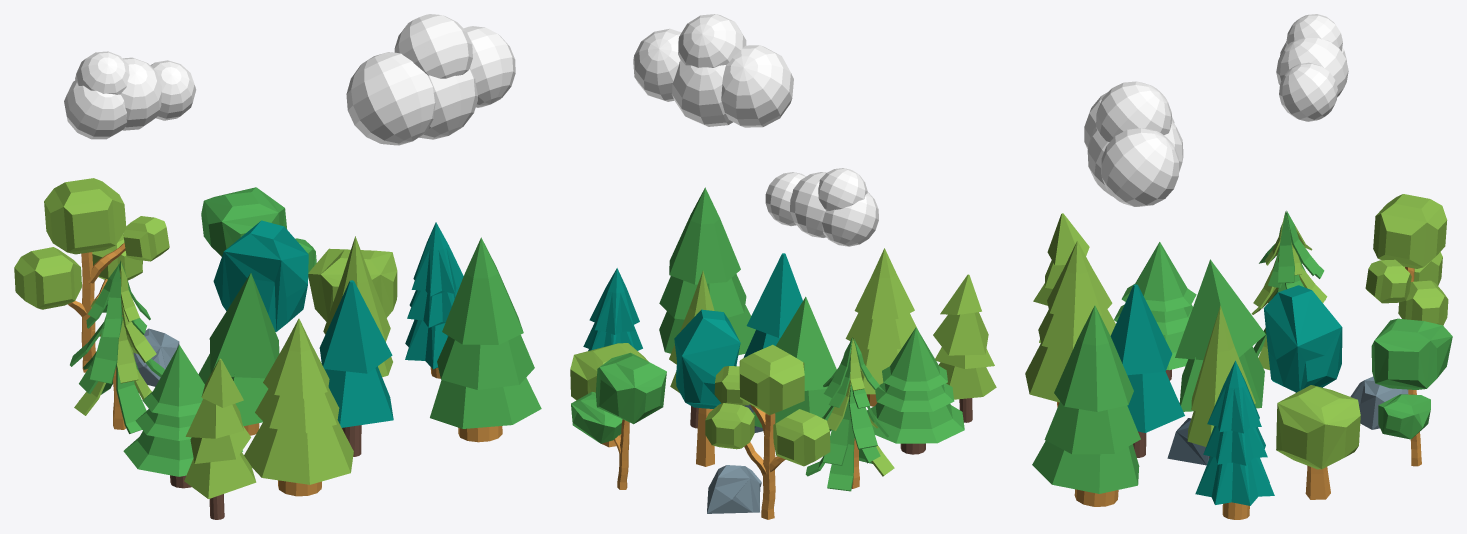
Rendered from sherwood-tree-grove.glb.
3 views of the same model, side by side, from view 1: azimuth 30°, elevation 25°; view 2: azimuth 150°, elevation 25°; view 3: azimuth 270°, elevation 25° (orthographic). The views are drawn at different scales.
Parts seen in each view (by area): view 1: SherwoodTreeGrove; view 2: SherwoodTreeGrove; view 3: SherwoodTreeGrove.
Part boxes in pixels (left/top/right/bottom): SherwoodTreeGrove: left=14, top=14, right=541, bottom=519; SherwoodTreeGrove: left=570, top=14, right=996, bottom=519; SherwoodTreeGrove: left=1025, top=14, right=1452, bottom=519.
Size of the model in its own units: 0.9634 by 1 by 0.95.
